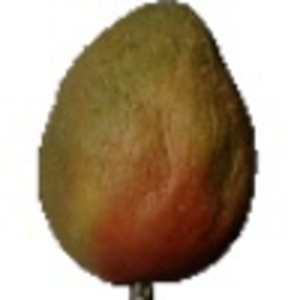mamão: (31, 3, 265, 285)
